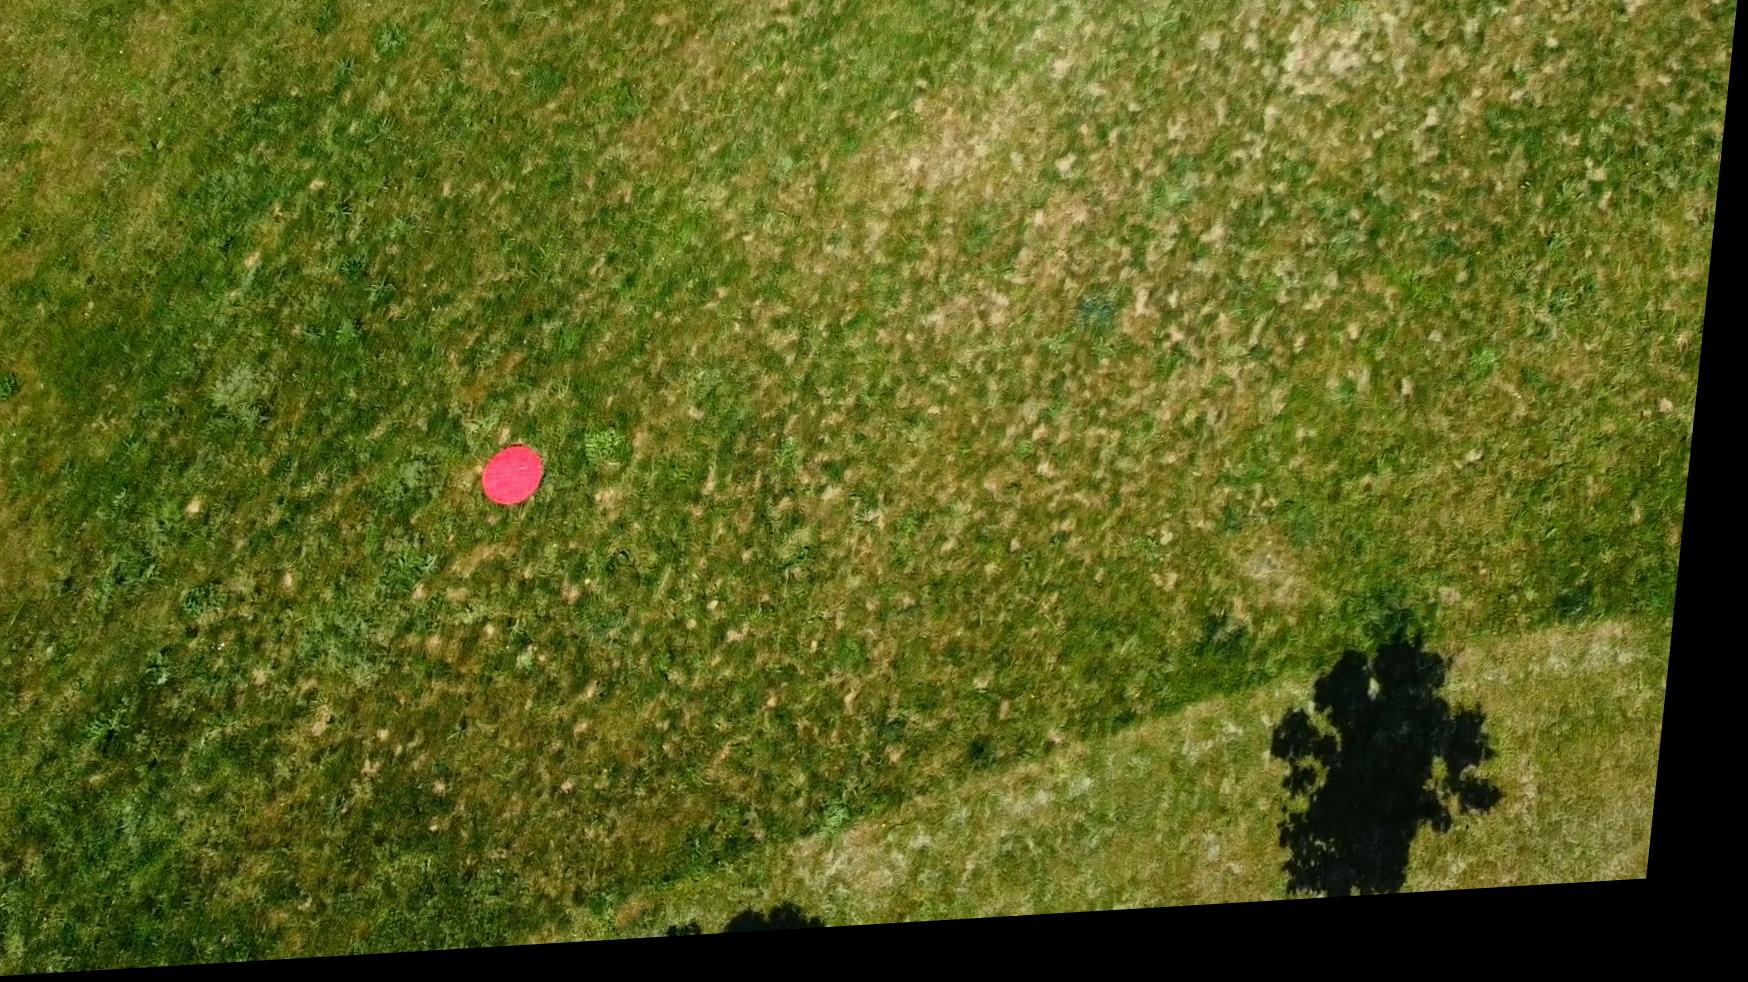Red: (489, 447, 562, 515)
